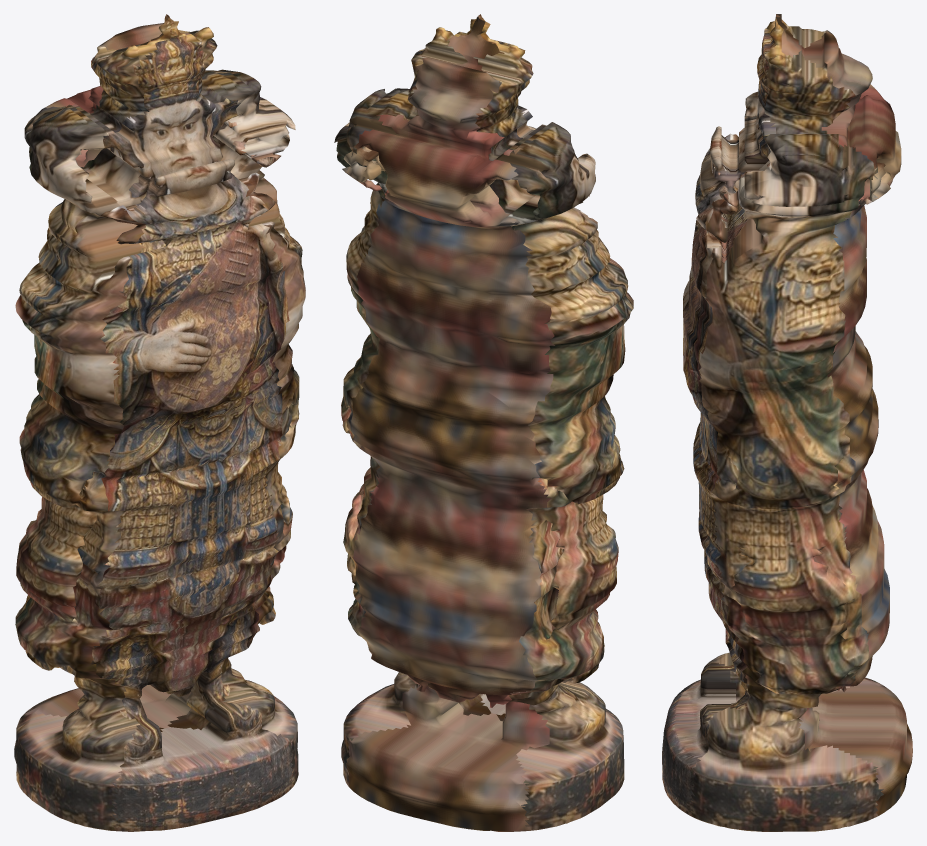
The model's file is east-king.glb.
The picture shows the model from 3 angles, left to right: view 1: azimuth 30°, elevation 25°; view 2: azimuth 150°, elevation 25°; view 3: azimuth 270°, elevation 25°; orthographic projection.
Parts seen in each view (by area): view 1: east-king; view 2: east-king; view 3: east-king.
Boxes of the visible parts, x1=… form: east-king: x1=14, y1=14, x2=305, y2=831; east-king: x1=334, y1=14, x2=633, y2=831; east-king: x1=662, y1=14, x2=912, y2=831.
Bounding box in the file's own units: 0.3645 × 1 × 0.297.
Materials: 1 (1 with a texture image).
